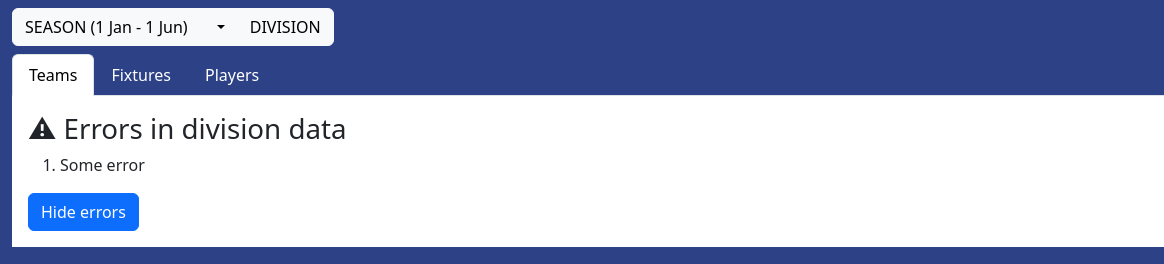
Division › when in season › data errors › can hide data errors
The width and height of the screenshot is (1164, 264).
Expected: the heading "⚠ Errors in division data" is shown, 28,109 -> 346,147
Click the button "Hide errors" at (83, 212), box 28,193 -> 139,231
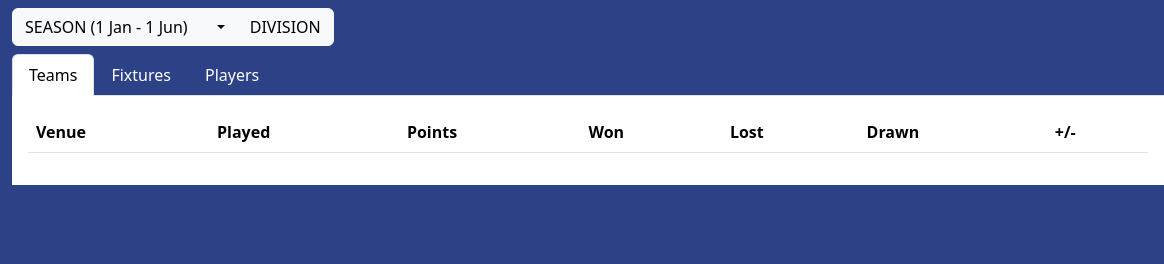
Expected: the heading "⚠ Errors in division data" is gone
